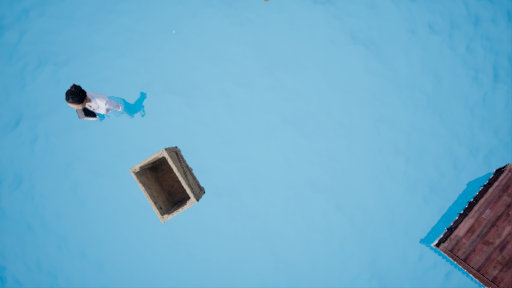person: (59, 84, 152, 121)
